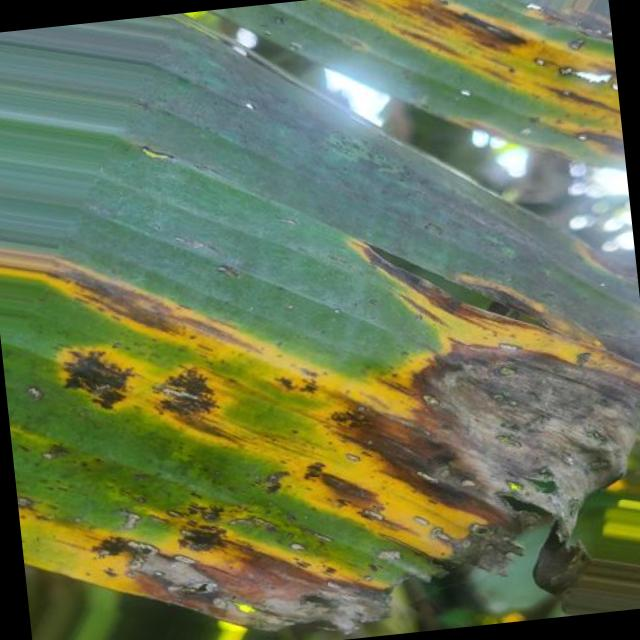Banana_Black_Sigatoka: (300, 231, 640, 631), (0, 227, 317, 640), (330, 0, 624, 182)
